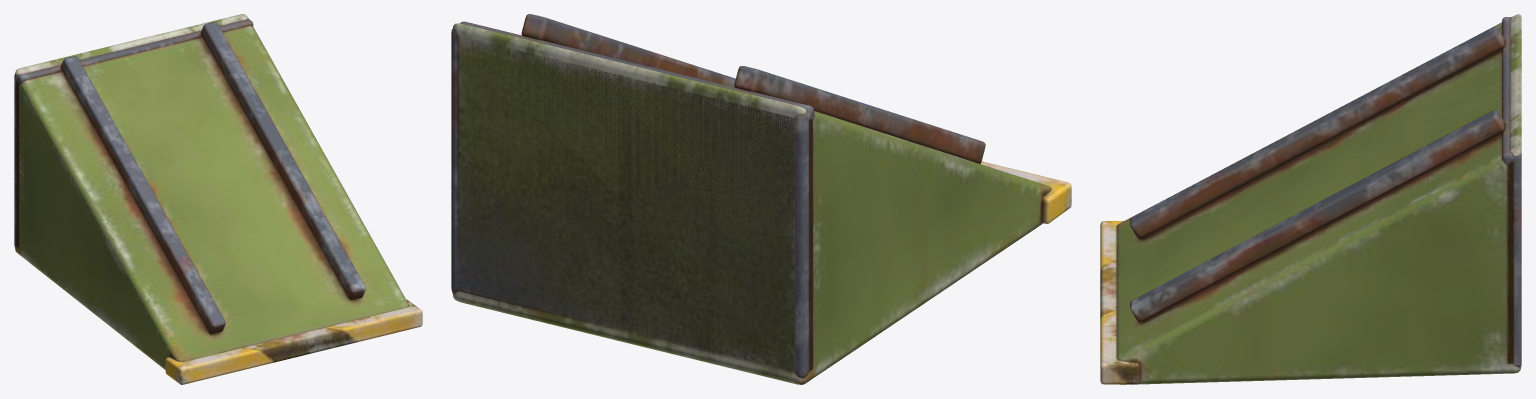
File: wedge.glb
3 renders of one model, left to right at view 1: azimuth 30°, elevation 25°; view 2: azimuth 150°, elevation 25°; view 3: azimuth 270°, elevation 25°, orthographic. The views are drawn at different scales.
Parts seen in each view (by area): view 1: body; view 2: body; view 3: body.
Boxes of the visible parts, x1,y1,x2,y2 form: body: (14,14,422,384); body: (451,14,1071,384); body: (1100,14,1521,384).
Bounding box in the file's own units: 0.52 × 0.4128 × 0.64.
1 material, 1 textured.
